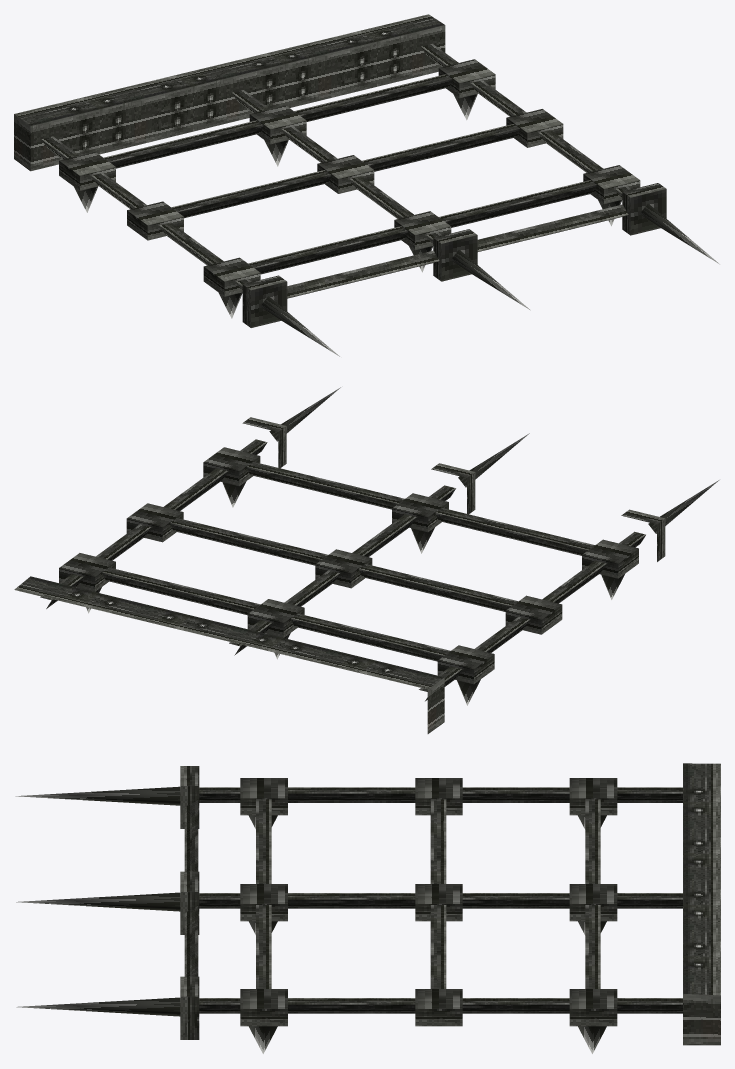
3 views of the same model, one above another, from view 1: azimuth 30°, elevation 25°; view 2: azimuth 150°, elevation 25°; view 3: azimuth 270°, elevation 25° (orthographic). The views are drawn at different scales.
Visible parts, largest first — view 1: model_Object39; view 2: model_Object39; view 3: model_Object39.
Boxes of the visible parts, left/top/right/bottom form: model_Object39: left=14, top=14, right=719, bottom=356; model_Object39: left=14, top=387, right=719, bottom=733; model_Object39: left=15, top=763, right=720, bottom=1053.
Bounding box in the file's own units: 2.19 × 0.3128 × 2.83.
1 material, 1 textured.
